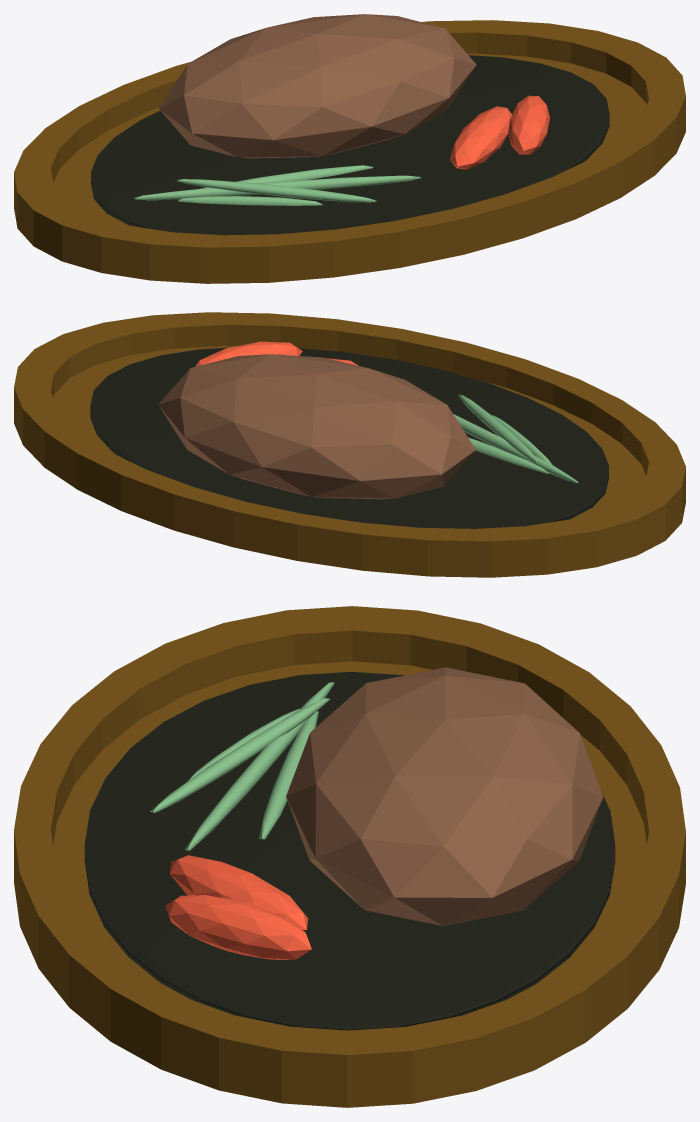
The model's file is Hamburg.gltf.
3 views of the same model, one above another, from view 1: azimuth 30°, elevation 25°; view 2: azimuth 150°, elevation 25°; view 3: azimuth 270°, elevation 25° (orthographic). The views are drawn at different scales.
Visible parts, largest first — view 1: 円柱.001, 円柱, ICO球.006, ICO球.004, ICO球, ICO球.005, ICO球.002, ICO球.003, ICO球.001; view 2: 円柱.001, ICO球.006, 円柱, ICO球.005, ICO球, ICO球.002, ICO球.001; view 3: 円柱.001, 円柱, ICO球.006, ICO球.005, ICO球.004, ICO球.002, ICO球, ICO球.001.
Part boxes in pixels (x1,y1,x2,y2): 円柱.001: (14,20,685,283); 円柱: (91,55,609,235); ICO球.006: (159,14,476,158); ICO球.004: (450,106,511,169); ICO球: (134,175,420,200); ICO球.005: (508,95,549,154); ICO球.002: (177,179,376,202); ICO球.003: (178,196,322,205); ICO球.001: (199,165,373,188); 円柱.001: (14,312,685,577); ICO球.006: (158,354,475,499); 円柱: (90,347,608,528); ICO球.005: (195,341,302,366); ICO球: (453,414,578,483); ICO球.002: (458,394,539,462); ICO球.001: (468,437,548,473); 円柱.001: (14,606,685,1107); 円柱: (84,671,615,1030); ICO球.006: (286,667,603,926); ICO球.005: (165,895,311,959); ICO球.004: (169,855,308,930); ICO球.002: (150,698,330,812); ICO球: (185,682,334,850); ICO球.001: (259,711,318,839).
Bounding box in the file's own units: 3.16 × 0.5381 × 2.
